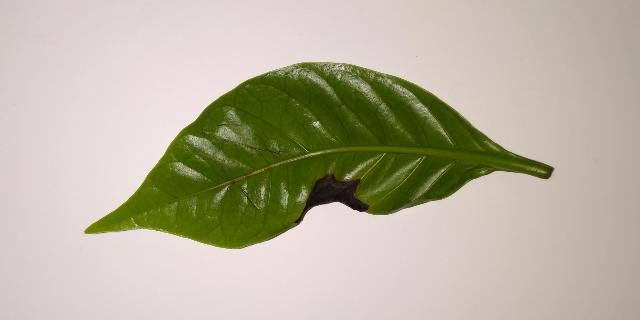rust: (295, 174, 368, 226)
